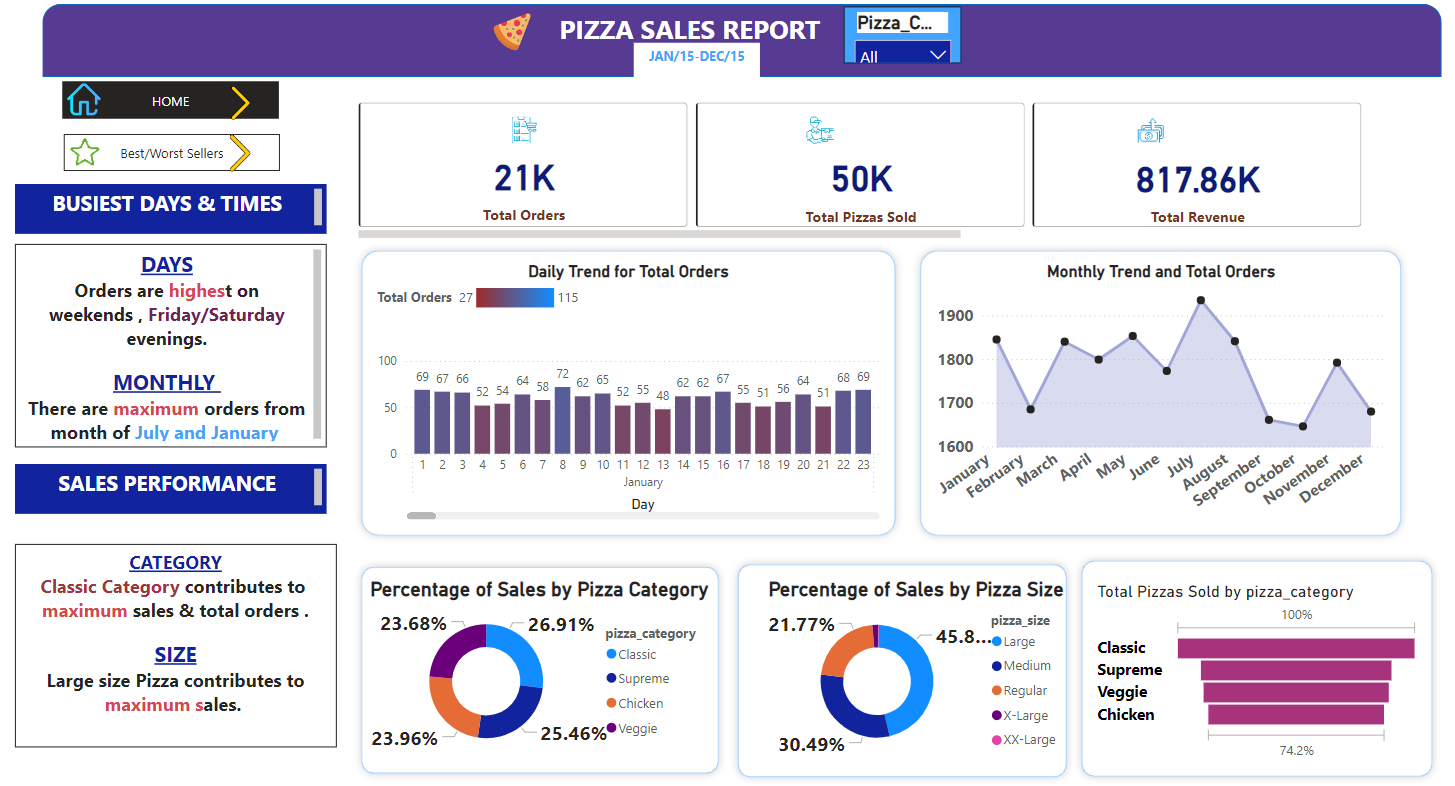

Layout of this report page (visuals, bound fields, positions):
{"tool":"powerbi","page":{"name":"HOME ","canvas":[1500,820],"ordinal":0},"visuals":[{"type":"cardVisual","fields":{"Data":["pizza_sales.Total Orders","pizza_sales.Total Pizzas Sold","pizza_sales.Total Revenue","pizza_sales.Avg Order Value","pizza_sales.Avg Pizzas Per Order"]},"box":[368.2,106.1,1042,151.2],"z":0},{"type":"shape","box":[48.5,10.3,1436.8,75],"z":1000},{"type":"textbox","box":[553.3,13.3,336,56],"z":2000},{"type":"textbox","box":[655.9,50.1,129.5,34.8],"z":3000},{"type":"image","box":[426.2,13.9,210.3,50.1],"z":4000},{"type":"shape","box":[368.2,255.7,564.4,308.7],"z":5000},{"type":"columnChart","title":"Daily Trend for Total Orders","fields":{"Y":["pizza_sales.Total Orders"],"Category":["pizza_sales.order_date.Variation.Date Hierarchy.Month","pizza_sales.order_date.Variation.Date Hierarchy.Day"]},"box":[387.5,275,525.8,270.2],"z":6000},{"type":"shape","box":[942.3,255.7,509.8,308.7],"z":7000},{"type":"shape","box":[368.2,580.5,382.7,228.3],"z":8000},{"type":"areaChart","title":"Monthly Trend and Total Orders","fields":{"Category":["pizza_sales.order_date.Variation.Date Hierarchy.Month"],"Y":["pizza_sales.Total Orders"]},"box":[963.2,275,469.6,270.2],"z":9000},{"type":"shape","box":[1108,574.1,376.3,238],"z":10000},{"type":"shape","box":[754.2,577.3,353.8,234.8],"z":11000},{"type":"donutChart","title":"Percentage of Sales by Pizza Category","fields":{"Category":["pizza_sales.pizza_category"],"Y":["pizza_sales.Total Revenue"]},"box":[377.9,599.8,363.4,189.8],"z":12000},{"type":"donutChart","title":"Percentage of Sales by Pizza Size","fields":{"Y":["pizza_sales.Total Revenue"],"Category":["pizza_sales.pizza_size"]},"box":[784.7,599.8,323.2,189.8],"z":13000},{"type":"funnel","fields":{"Category":["pizza_sales.pizza_category"],"Y":["pizza_sales.Total Pizzas Sold"]},"box":[1127.3,603,340.9,186.5],"z":14000},{"type":"textbox","box":[20.9,195,320.3,51.5],"z":15000},{"type":"textbox","box":[21,581,320,228],"z":16000},{"type":"textbox","box":[20.9,256.3,320.3,208.9],"z":17000},{"type":"textbox","box":[20.9,483.3,320.3,51.5],"z":18000},{"type":"textbox","box":[20.9,565.4,330.1,208.9],"z":19000},{"type":"slicer","title":"Pizza_Category","fields":{"Values":["pizza_sales.pizza_category"]},"box":[871.8,12.5,121.2,58.5],"z":20000},{"type":"pageNavigator","box":[69.1,89.7,222.1,38.2],"z":20001},{"type":"pageNavigator","box":[70.6,144.1,222.1,38.2],"z":20002},{"type":"image","box":[195.6,89.7,114.7,44.1],"z":20003},{"type":"image","box":[185.3,139.7,133.8,47.1],"z":20004},{"type":"image","box":[69.1,82.4,44.1,51.5],"z":20005},{"type":"image","box":[72.1,142.6,41.2,39.7],"z":20006}]}

Visuals, with their boxes in screenshot pixels (x1, y1, x2, y2), scaled from the page's 1500x820 canvas onto the 1455x786 screenshot:
cardVisual - pizza_sales.Total Orders x pizza_sales.Total Pizzas Sold: <box>357,102,1368,247</box>
shape: <box>47,10,1441,82</box>
textbox: <box>537,13,863,66</box>
textbox: <box>636,48,762,81</box>
image: <box>413,13,617,61</box>
shape: <box>357,245,905,541</box>
"Daily Trend for Total Orders" columnChart: <box>376,264,886,523</box>
shape: <box>914,245,1409,541</box>
shape: <box>357,556,728,775</box>
"Monthly Trend and Total Orders" areaChart: <box>934,264,1390,523</box>
shape: <box>1075,550,1440,778</box>
shape: <box>732,553,1075,778</box>
"Percentage of Sales by Pizza Category" donutChart: <box>367,575,719,757</box>
"Percentage of Sales by Pizza Size" donutChart: <box>761,575,1075,757</box>
funnel - pizza_sales.pizza_category x pizza_sales.Total Pizzas Sold: <box>1093,578,1424,757</box>
textbox: <box>20,187,331,236</box>
textbox: <box>20,557,331,775</box>
textbox: <box>20,246,331,446</box>
textbox: <box>20,463,331,513</box>
textbox: <box>20,542,340,742</box>
"Pizza_Category" slicer: <box>846,12,963,68</box>
pageNavigator: <box>67,86,282,123</box>
pageNavigator: <box>68,138,284,175</box>
image: <box>190,86,301,128</box>
image: <box>180,134,310,179</box>
image: <box>67,79,110,128</box>
image: <box>70,137,110,175</box>
